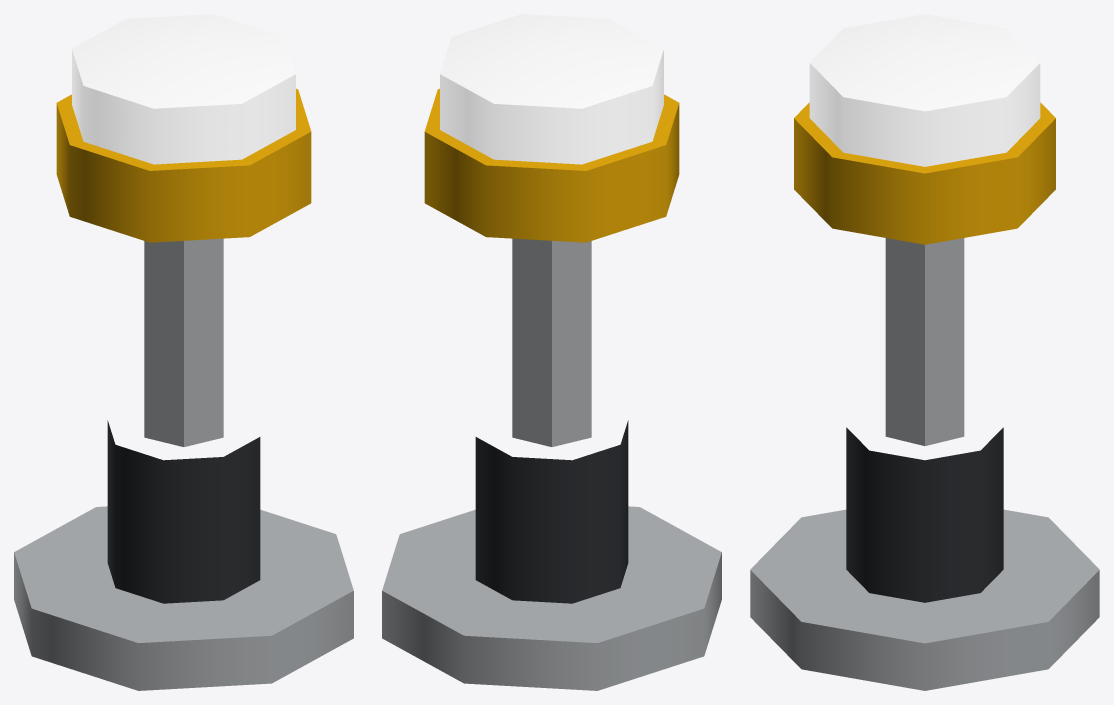
File: runway_edge_light.glb
3 views of the same model, side by side, from view 1: azimuth 30°, elevation 25°; view 2: azimuth 150°, elevation 25°; view 3: azimuth 270°, elevation 25° (orthographic).
Parts seen in each view (by area): view 1: LOD0; view 2: LOD0; view 3: LOD0.
Boxes of the visible parts, bbox=[...] form: LOD0: bbox=[14, 14, 353, 690]; LOD0: bbox=[382, 14, 721, 690]; LOD0: bbox=[750, 14, 1099, 690].
Bounding box in the file's own units: 0.2 × 0.36 × 0.2.
4 materials, 1 textured.
